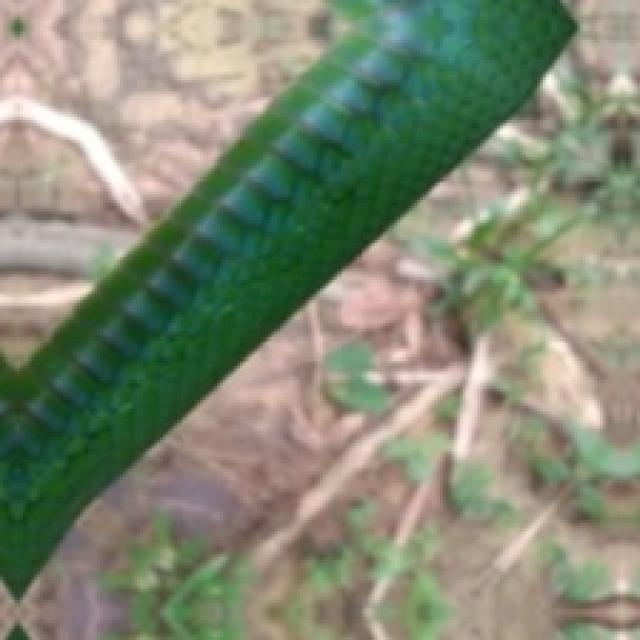red-tailed green ratsnake: (0, 0, 571, 597)
